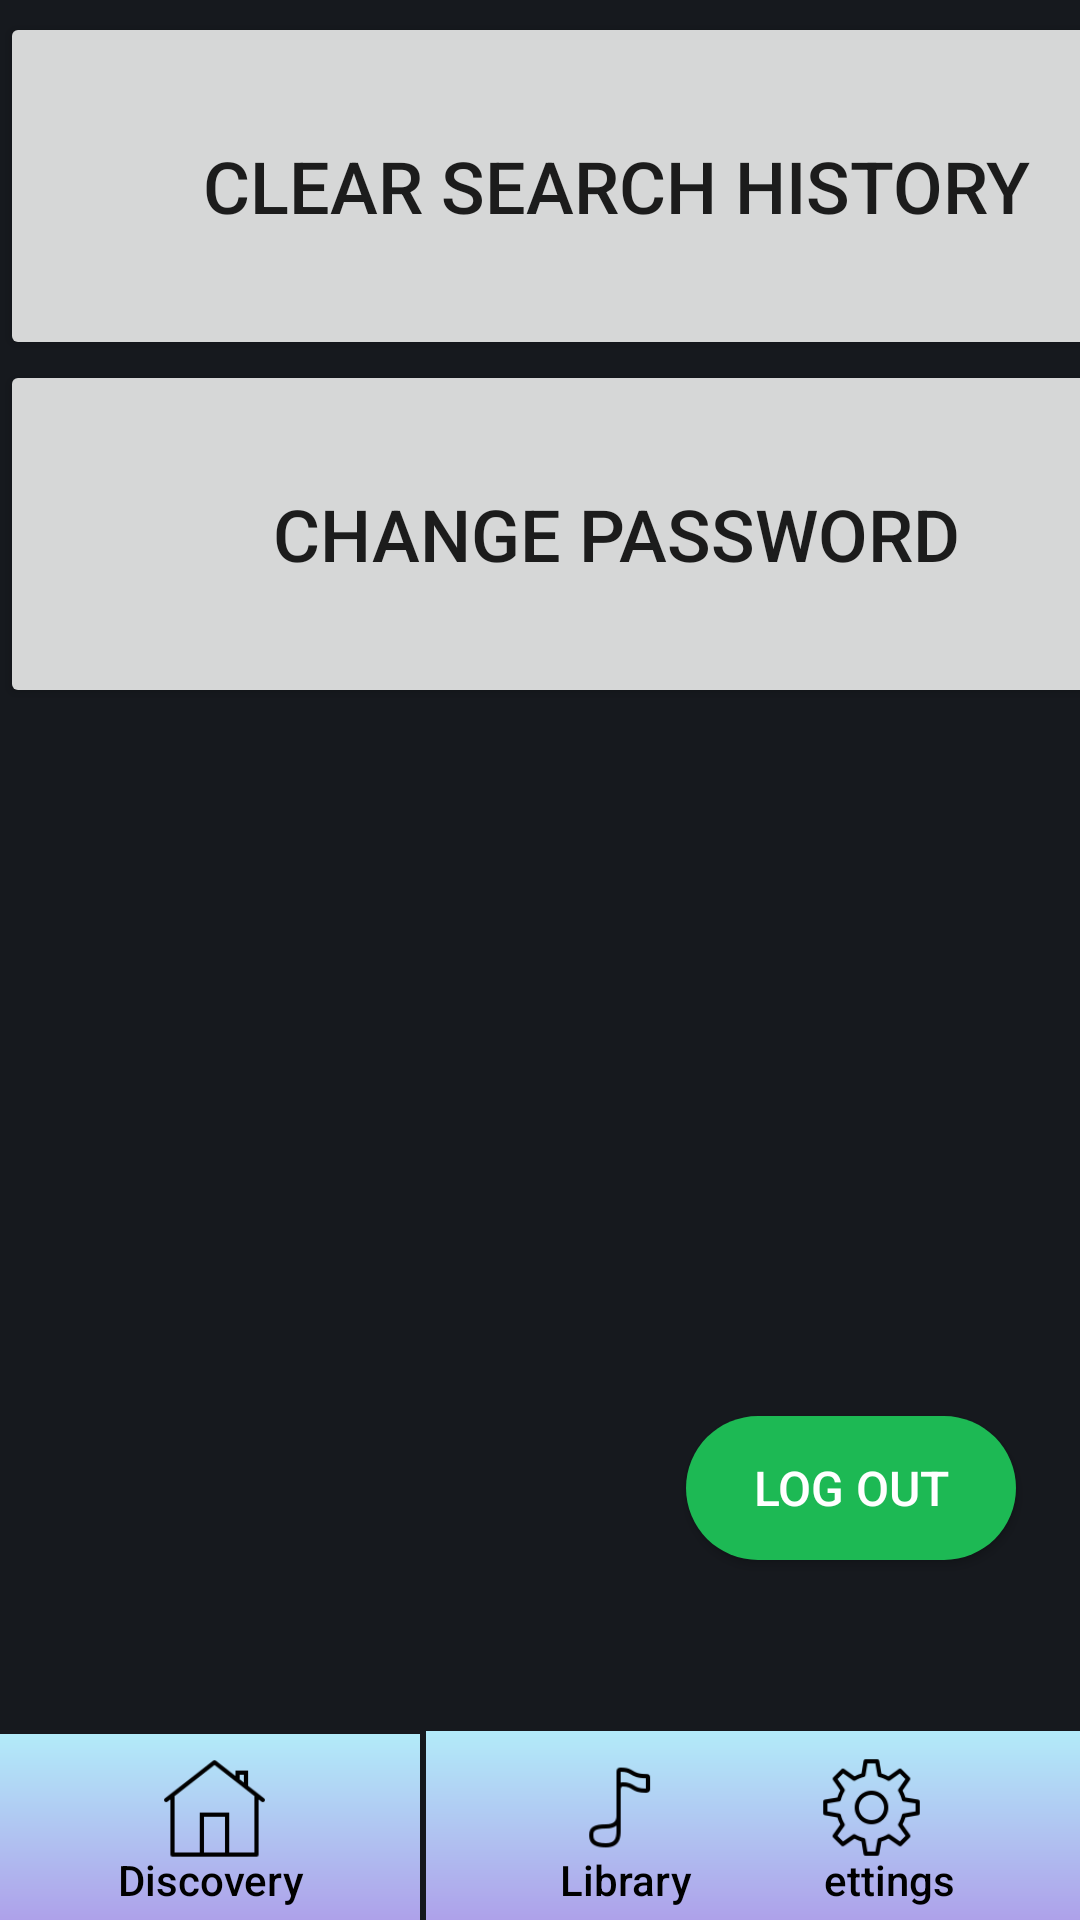

Point at icon controls on the screen. Image size 1080w x 1920h, points as (x,y).
home: (214,1810)
music: (616,1807)
